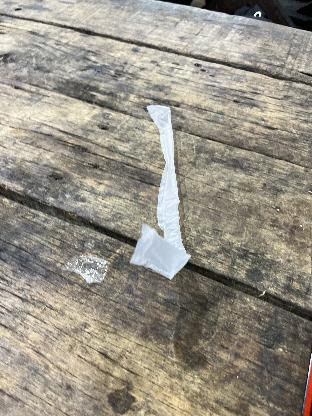Others: (133, 101, 187, 286), (72, 252, 110, 284)
